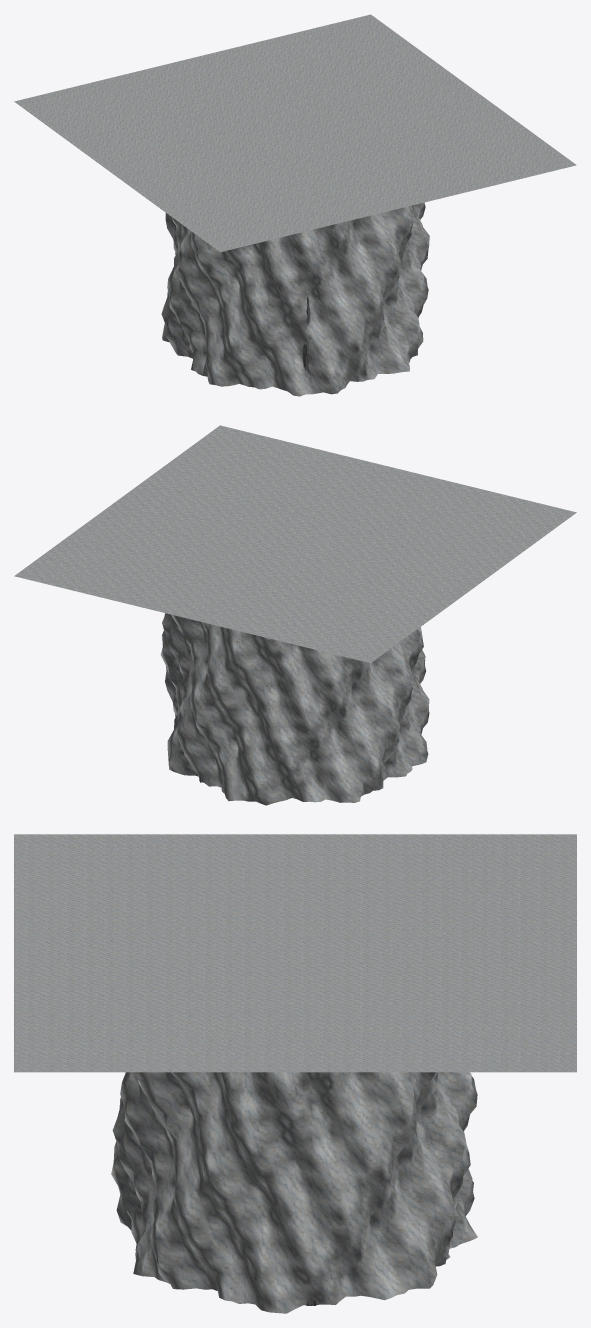
The model's file is room.glb.
3 views of the same model, one above another, from view 1: azimuth 30°, elevation 25°; view 2: azimuth 150°, elevation 25°; view 3: azimuth 270°, elevation 25° (orthographic). The views are drawn at different scales.
Visible parts, largest first — view 1: LEDGE-1; view 2: LEDGE-1; view 3: LEDGE-1.
Boxes of the visible parts, <box> form: LEDGE-1: <box>14,14,576,396</box>; LEDGE-1: <box>14,425,576,805</box>; LEDGE-1: <box>14,834,576,1313</box>.
Bounding box in the file's own units: 95.2 × 53 × 95.2.
1 material, 1 textured.
